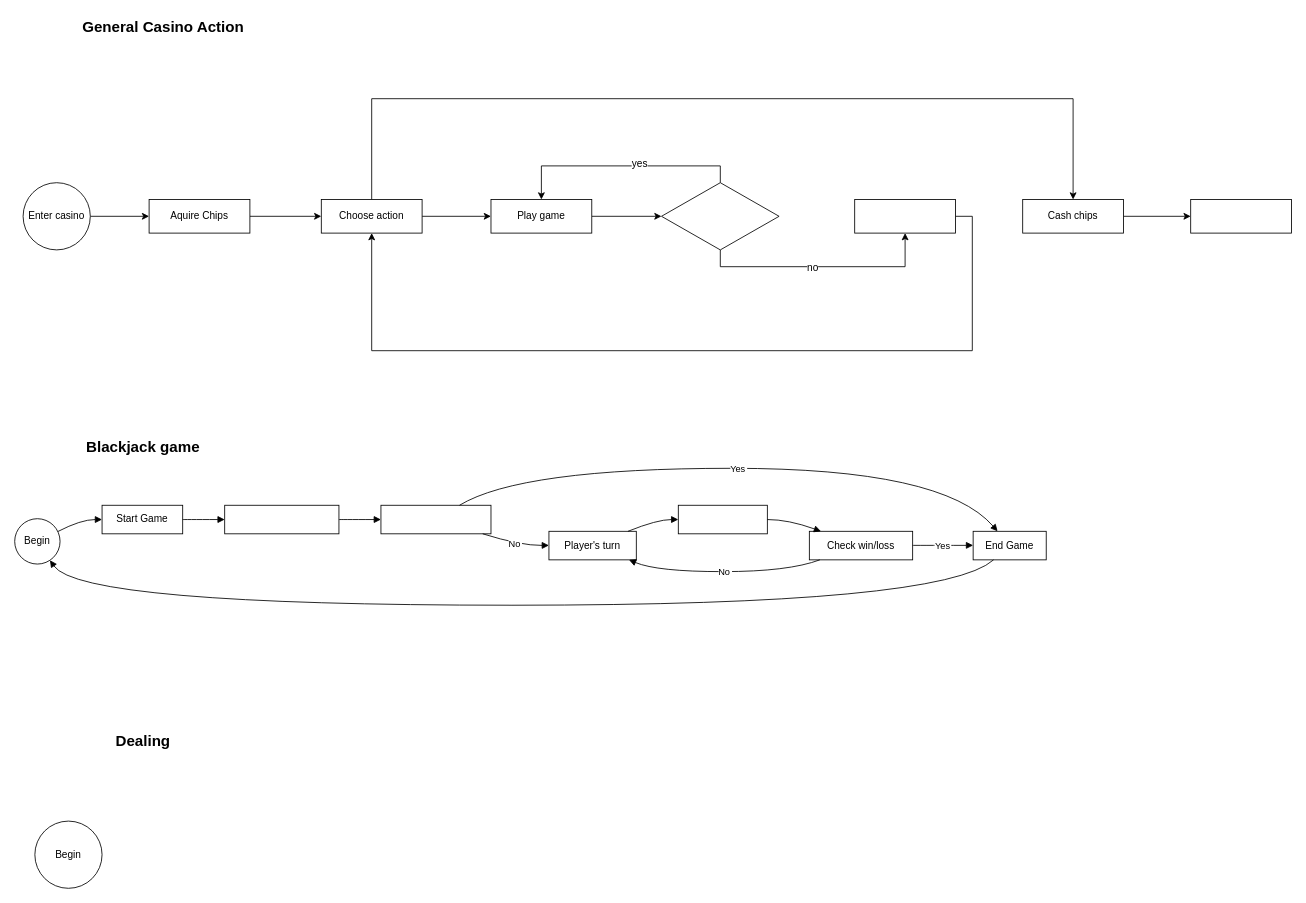
The diagram is 1306 pixels wide and 903 high, and some of its shapes have lost their labels. The shapes that lost their labels are listed below. From the top down, each one's centre as x and y in pixels, then its label:
At pixel 720 216: "Continue playing?".
At pixel 905 216: "Exit game".
At pixel 1241 216: "Exit casino".
At pixel 281 519: "Deal initial cards".
At pixel 435 519: "Check blackjack".
At pixel 722 519: "Dealer's turn".
